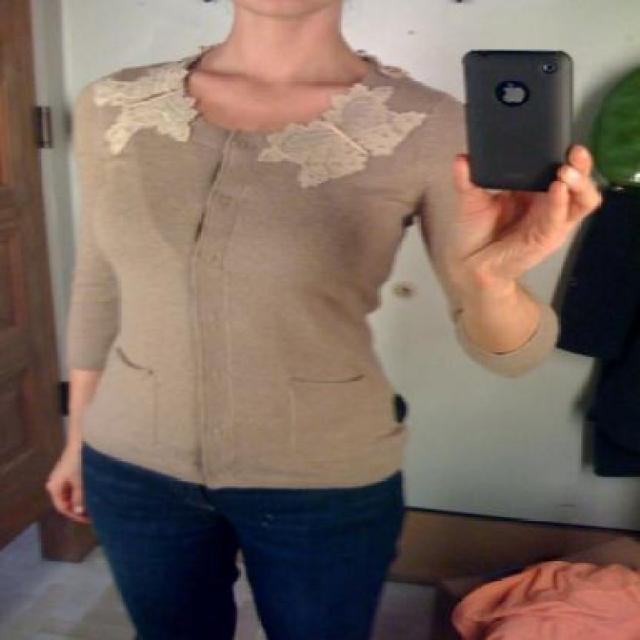phone: (466, 40, 583, 176)
